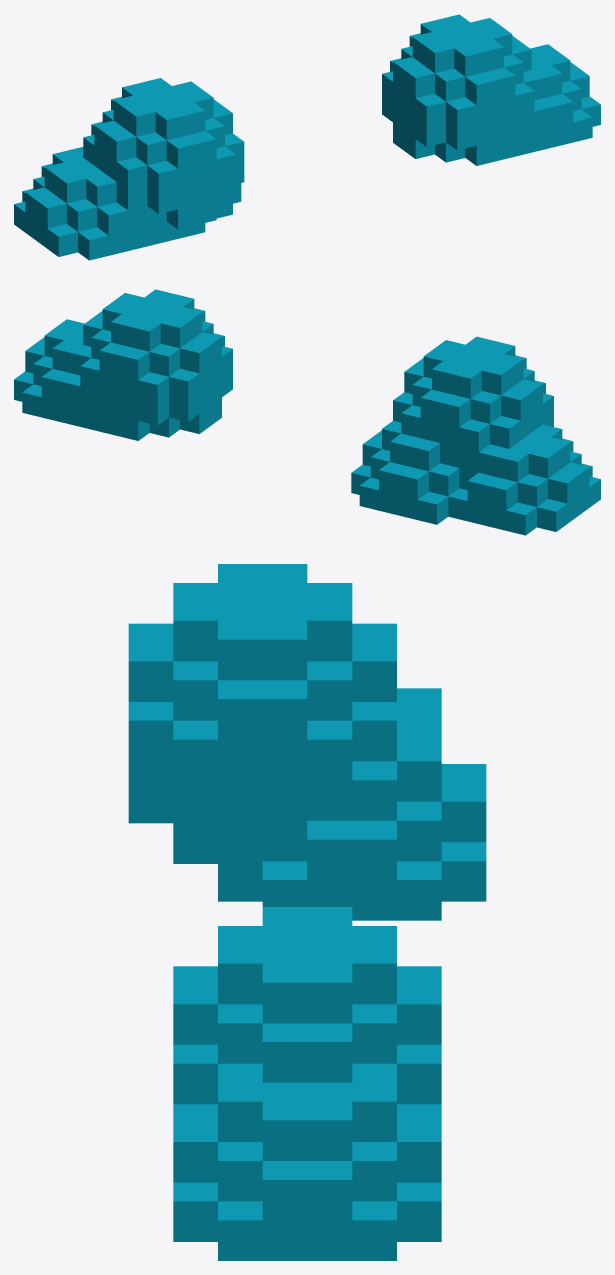
The model's file is IceBerries-6.obj.
The picture shows the model from 3 angles, top to bottom: view 1: azimuth 30°, elevation 25°; view 2: azimuth 150°, elevation 25°; view 3: azimuth 270°, elevation 25°; orthographic projection. The views are drawn at different scales.
Bounding box in the file's own units: 2.8 × 0.6 × 0.8.
Materials: 1 (1 with a texture image).
